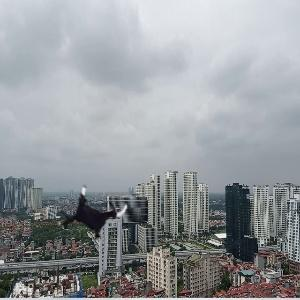drone: (54, 174, 132, 252)
